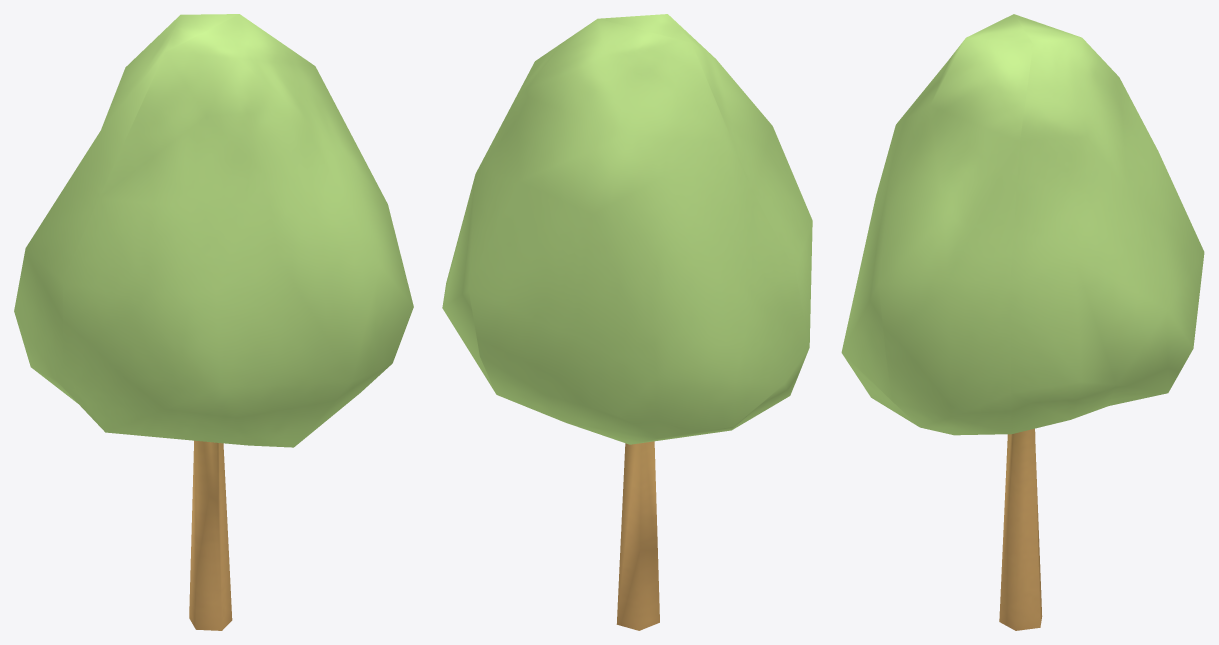
3 renders of one model, left to right at view 1: azimuth 30°, elevation 25°; view 2: azimuth 150°, elevation 25°; view 3: azimuth 270°, elevation 25°, orthographic.
Visible parts, largest first — view 1: Listvennoe; view 2: Listvennoe; view 3: Listvennoe.
Boxes of the visible parts, bbox=[...] form: Listvennoe: bbox=[14, 14, 413, 630]; Listvennoe: bbox=[442, 14, 812, 630]; Listvennoe: bbox=[841, 14, 1204, 630].
Bounding box in the file's own units: 8.72 × 15.37 × 8.5.
1 material, 1 textured.
